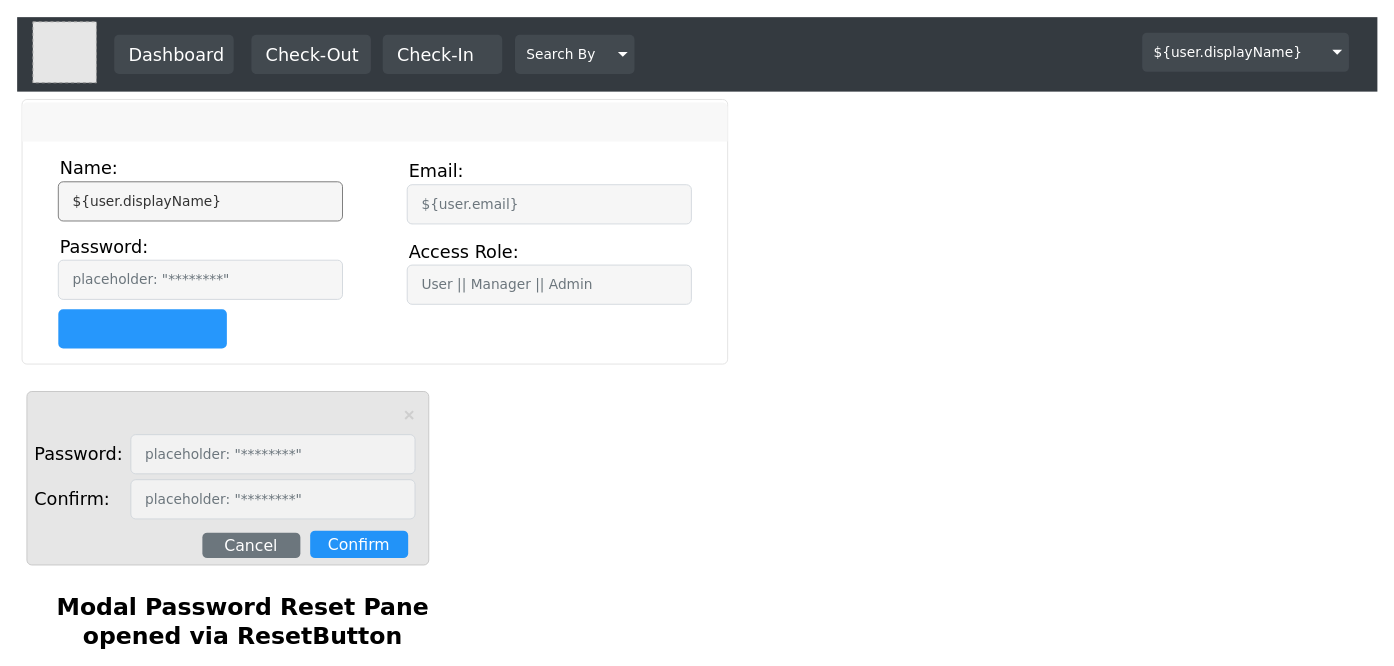
Some shapes in this 1394 by 666 pixel diagram are drawn without their labels. Grey dashed boxes stand in for pictures. Here are the shapes that lost their labels. From the top down, the box of each, then its label:
(22, 102, 727, 141): User Profile
(58, 309, 226, 348): Reset My Password
(26, 391, 429, 565): Reset Password for ${user.email}?
